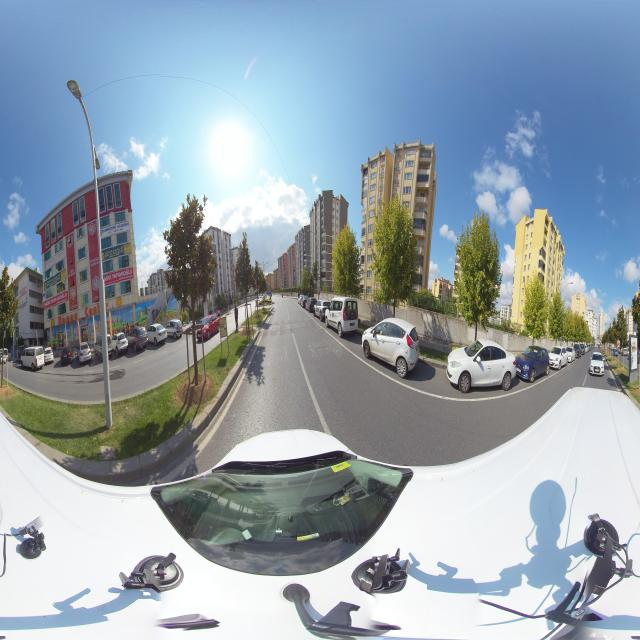SignStore: (103, 267, 134, 286), (102, 242, 131, 261), (101, 220, 130, 239), (43, 268, 66, 291), (43, 290, 68, 309), (44, 249, 64, 272)
